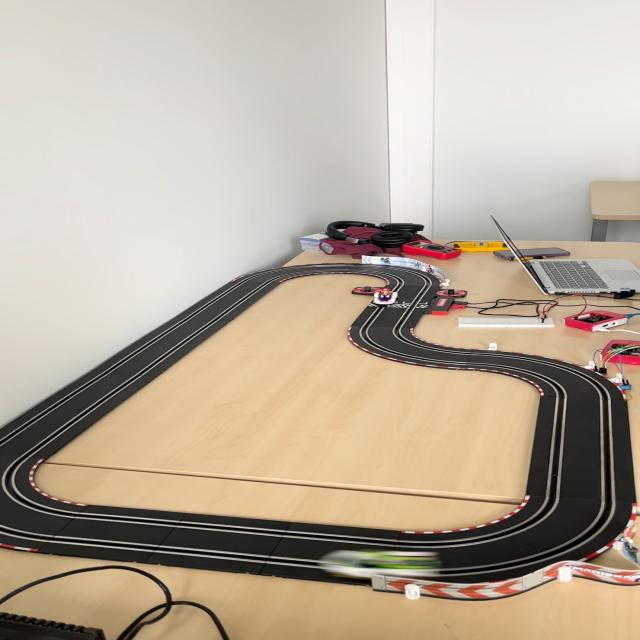mario: (371, 287, 401, 306)
yoshi: (315, 548, 444, 582)
